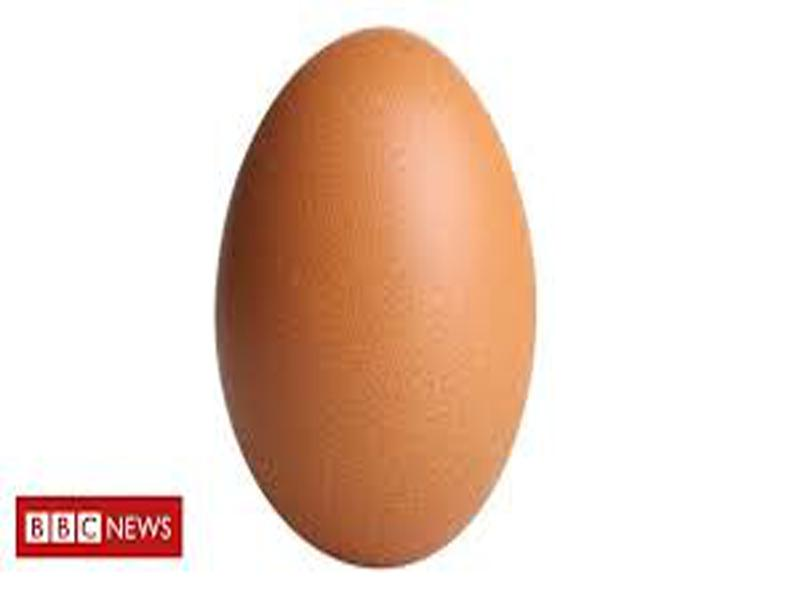Eggs: (216, 32, 536, 564)
